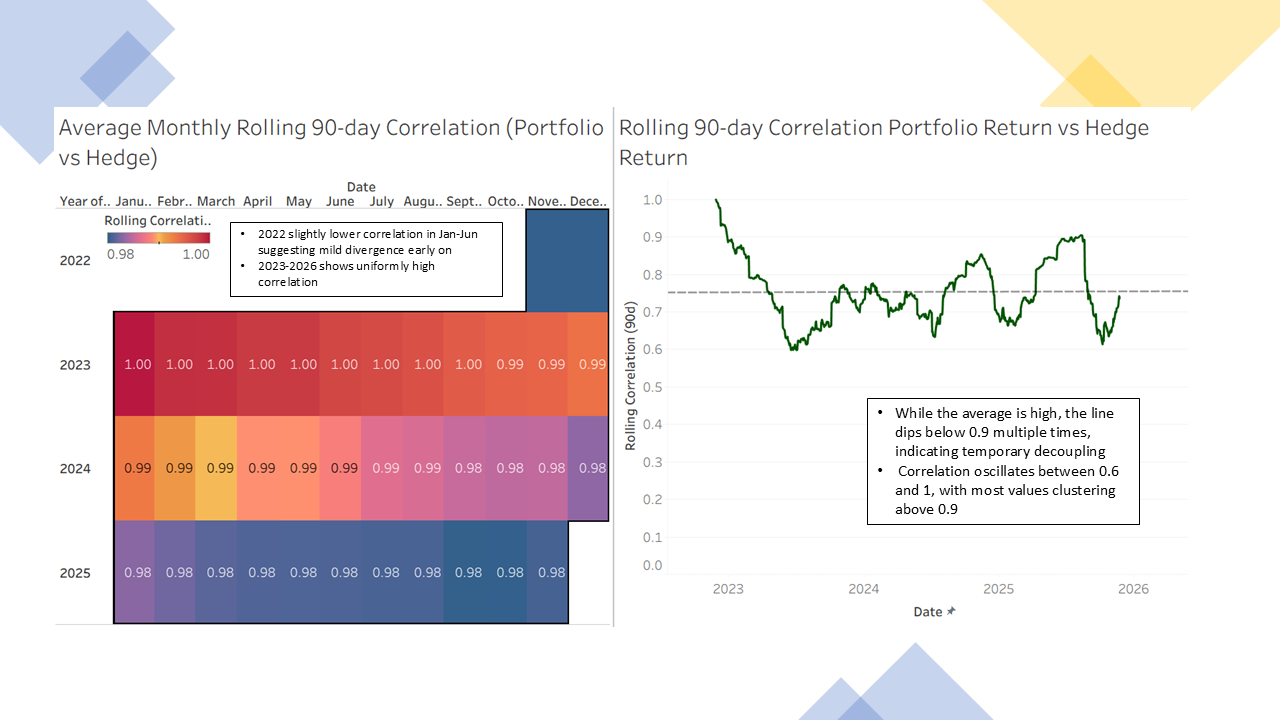

The dashboard page shown, as its layout file describes it:
{"tool":"tableau","page":{"name":"90-Rolling ","canvas":[1000,1000],"units":"permille","ordinal":0},"visuals":[{"type":"worksheet","title":"Correlation","mark":"Square","rows":["Date"],"cols":["Date"],"box":[5,10.7,486.9,978.6]},{"type":"worksheet","title":"Correlation 1","mark":"Automatic","rows":["Calculation_501306942870777908"],"cols":["Date"],"box":[491.9,10.7,503.1,978.6]},{"type":"legend","title":"Correlation","param":"[federated.0bg4tcu033rbq71aozf0k10hee3w].[usr:Calculation_501306942870777908:qk:","box":[47.4,202.4,99.8,108.6]}]}

Visuals, with their boxes on the dashboard's canvas, which has no fixed pixel size, in thousandths of its width and height (x1, y1, x2, y2). These are canvas units, not pixel positions in the 1280x720 screenshot, which may show the page scaled, cropped or inside an application window:
"Correlation" worksheet (Square marks): <bbox>5, 11, 492, 989</bbox>
"Correlation 1" worksheet: <bbox>492, 11, 995, 989</bbox>
"Correlation" legend: <bbox>47, 202, 147, 311</bbox>
